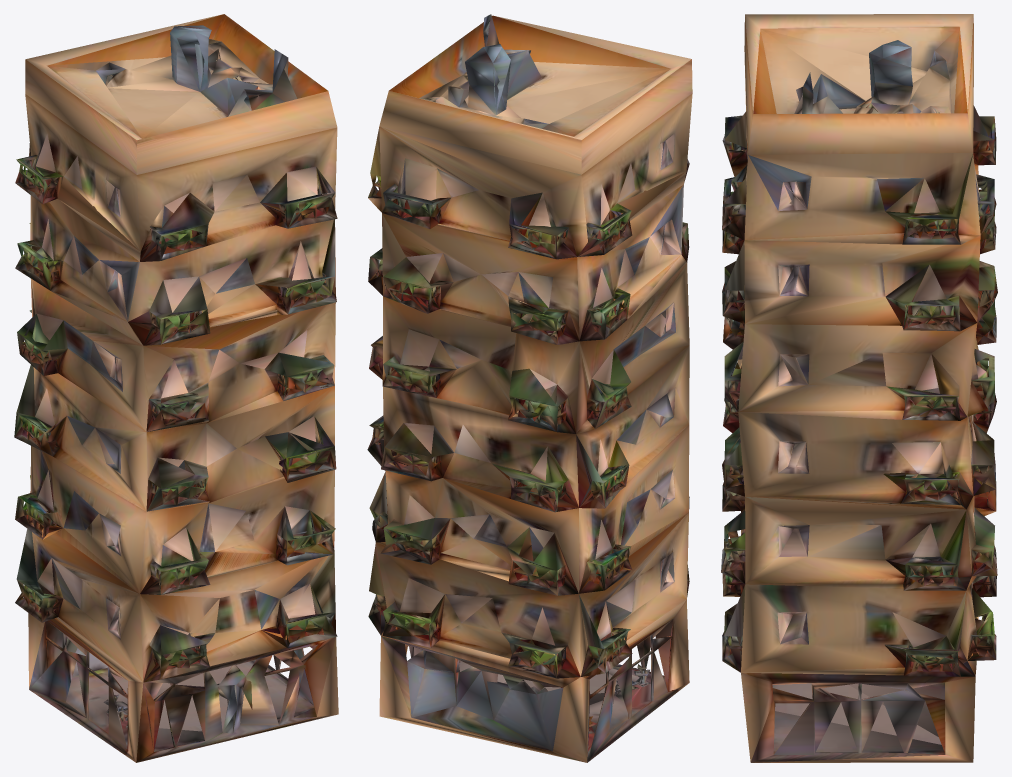
File: menara-6.glb
The picture shows the model from 3 angles, left to right: view 1: azimuth 30°, elevation 25°; view 2: azimuth 150°, elevation 25°; view 3: azimuth 270°, elevation 25°; orthographic projection. The views are drawn at different scales.
Parts seen in each view (by area): view 1: node_0; view 2: node_0; view 3: node_0.
Boxes of the visible parts, left/top/right/bottom form: node_0: left=14, top=14, right=338, bottom=762; node_0: left=367, top=14, right=692, bottom=762; node_0: left=721, top=14, right=997, bottom=762.
Bounding box in the file's own units: 0.4143 × 1.09 × 0.4047.
Materials: 1 (1 with a texture image).
